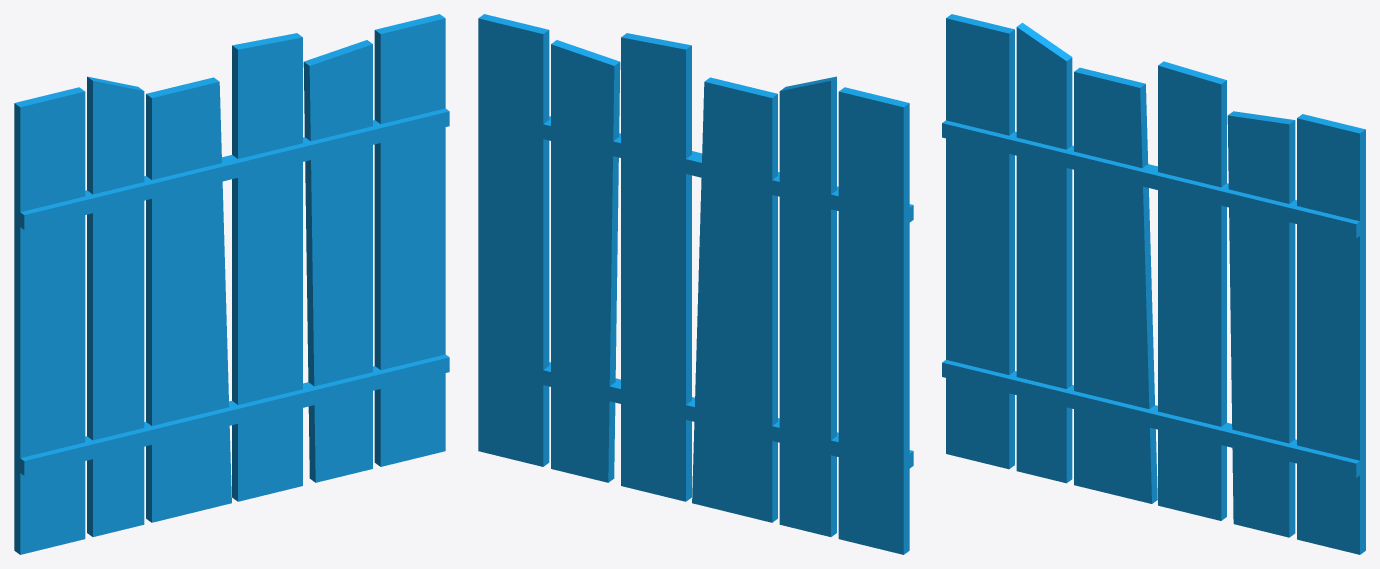
Rendered from Wood_fence.FBX.
3 renders of one model, left to right at view 1: azimuth 30°, elevation 25°; view 2: azimuth 150°, elevation 25°; view 3: azimuth 330°, elevation 25°, orthographic. The views are drawn at different scales.
Visible parts, largest first — view 1: Box1312; view 2: Box1312; view 3: Box1312.
Boxes of the visible parts, x1=… form: Box1312: x1=14, y1=14, x2=449, y2=554; Box1312: x1=478, y1=14, x2=913, y2=554; Box1312: x1=942, y1=14, x2=1365, y2=554.
Size of the model in its own units: 17.45 by 0.7024 by 17.89.
